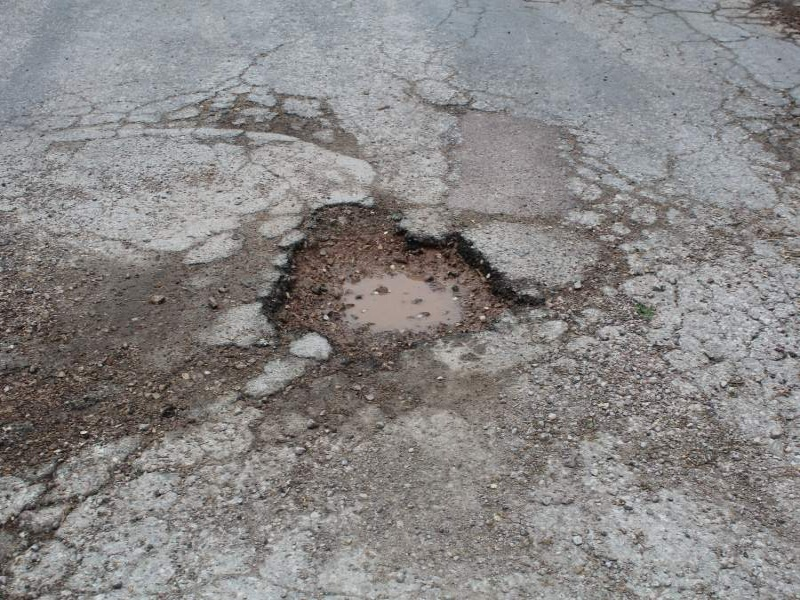pothole: (260, 208, 526, 363)
